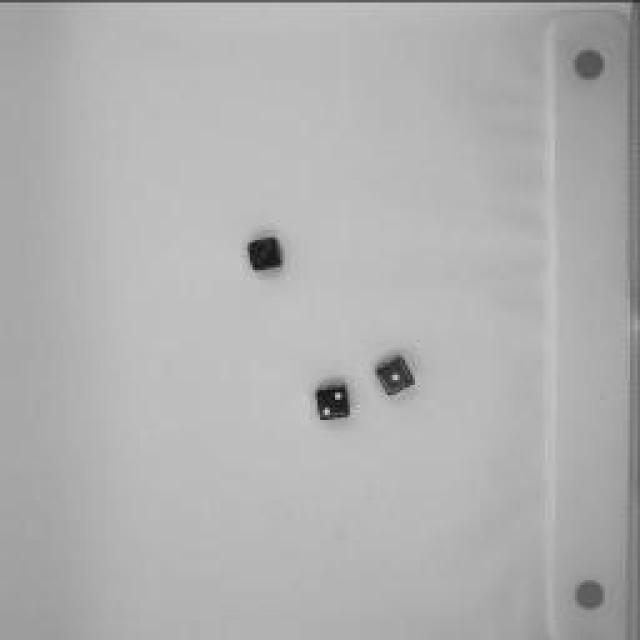dice_1: (371, 352, 421, 400)
dice_2: (310, 382, 360, 426)
dice_3: (242, 230, 292, 275)
